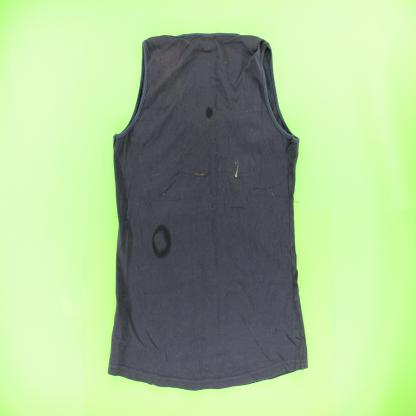stain: (150, 220, 174, 262), (231, 157, 241, 182), (204, 105, 215, 121), (192, 169, 209, 179)
